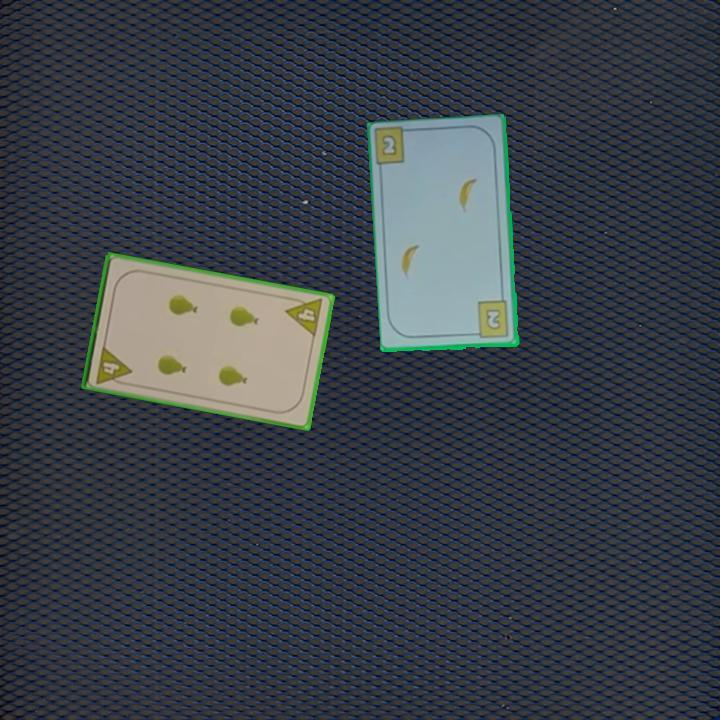2b: (470, 298, 512, 341), (378, 131, 400, 159)
4p: (282, 293, 326, 340), (93, 342, 134, 388)
